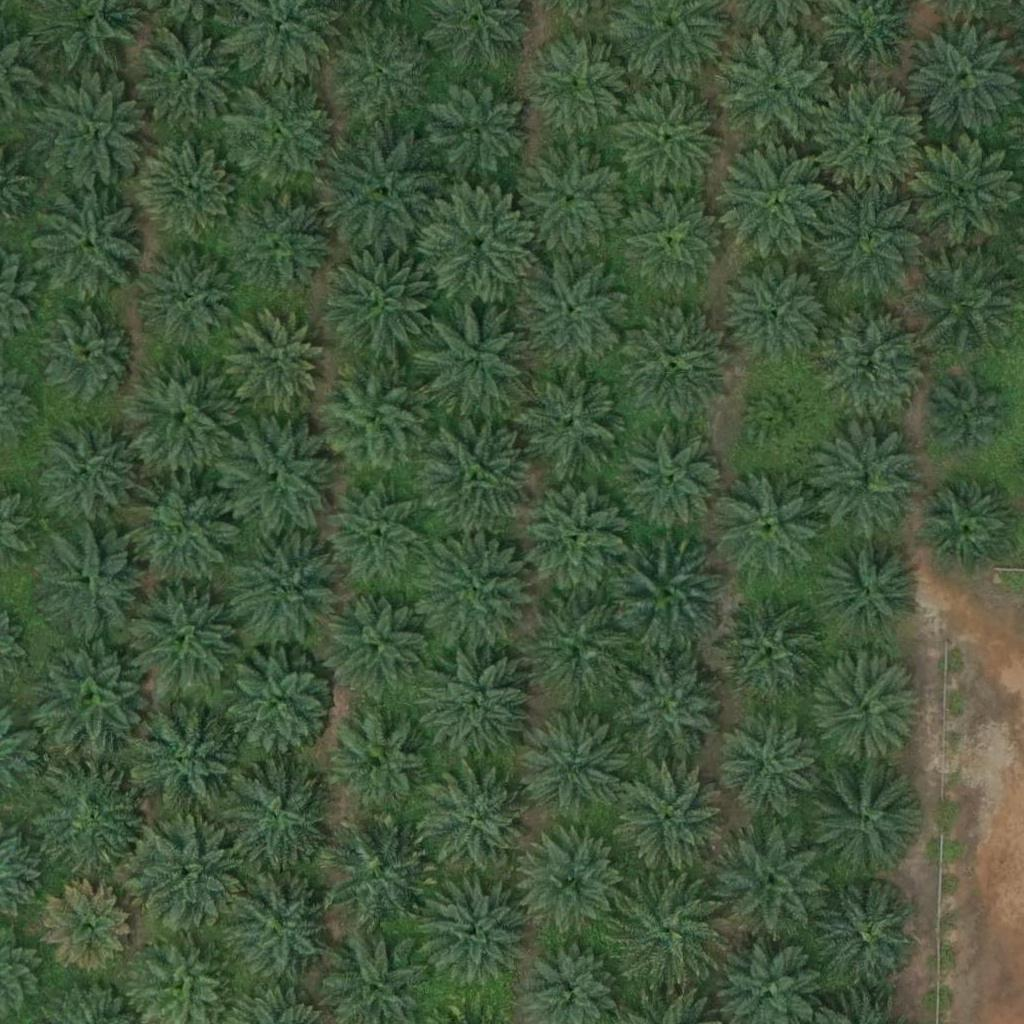Kelapa_Sawit: (815, 304, 928, 418), (721, 145, 834, 259), (316, 361, 429, 475), (421, 419, 534, 533), (421, 537, 534, 651), (520, 593, 633, 707), (521, 708, 634, 822), (819, 85, 932, 198), (813, 180, 926, 293), (724, 36, 837, 149), (423, 188, 536, 301), (420, 300, 533, 413), (324, 18, 437, 131), (329, 137, 442, 250), (322, 249, 435, 362), (31, 73, 144, 186), (31, 189, 144, 302), (29, 301, 142, 414), (30, 414, 143, 527), (36, 527, 149, 640), (36, 641, 149, 754), (126, 582, 239, 695), (128, 708, 241, 821), (131, 818, 244, 931), (417, 650, 530, 763), (424, 768, 537, 881), (517, 827, 630, 940), (713, 471, 826, 584), (710, 593, 823, 706), (809, 428, 922, 541), (813, 532, 926, 645), (813, 655, 926, 768), (808, 767, 921, 880), (223, 871, 336, 984), (617, 83, 729, 197), (522, 483, 634, 597), (614, 648, 726, 762), (613, 765, 725, 879), (716, 826, 828, 940), (909, 22, 1021, 135), (619, 309, 731, 422), (518, 146, 630, 259), (522, 256, 634, 369), (227, 77, 339, 190), (225, 190, 337, 303), (129, 19, 241, 132), (37, 763, 149, 876), (122, 360, 234, 473), (125, 476, 237, 589), (224, 420, 336, 533), (230, 532, 342, 645), (224, 644, 336, 757), (219, 757, 331, 870), (323, 587, 435, 700), (320, 817, 432, 930), (516, 365, 628, 478), (614, 541, 726, 654), (608, 874, 720, 987), (417, 871, 529, 984), (228, 309, 328, 410), (136, 141, 236, 242), (141, 247, 241, 348), (332, 710, 432, 811), (624, 430, 724, 531), (729, 262, 829, 362), (622, 193, 722, 293), (528, 39, 628, 139), (431, 83, 531, 183), (327, 488, 427, 588), (719, 713, 819, 813), (818, 886, 918, 986), (924, 484, 1012, 573), (43, 883, 131, 971), (933, 384, 1008, 460), (750, 387, 812, 450)
